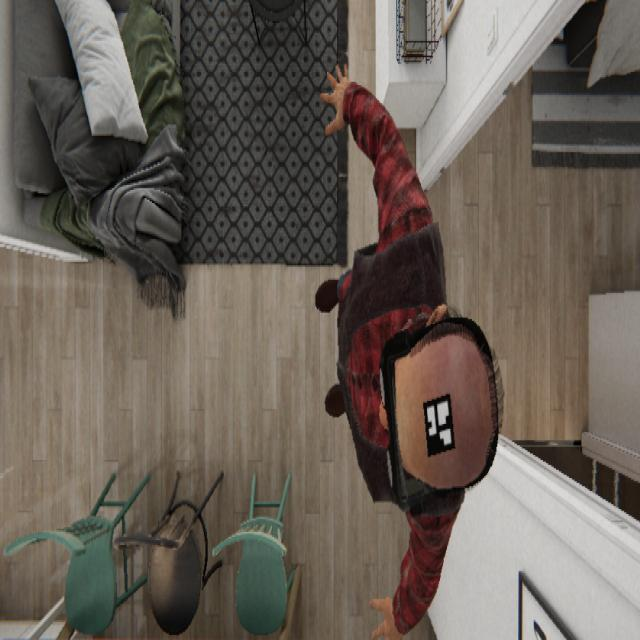AruCO: (422, 390, 456, 458)
Human: (314, 61, 504, 636)
